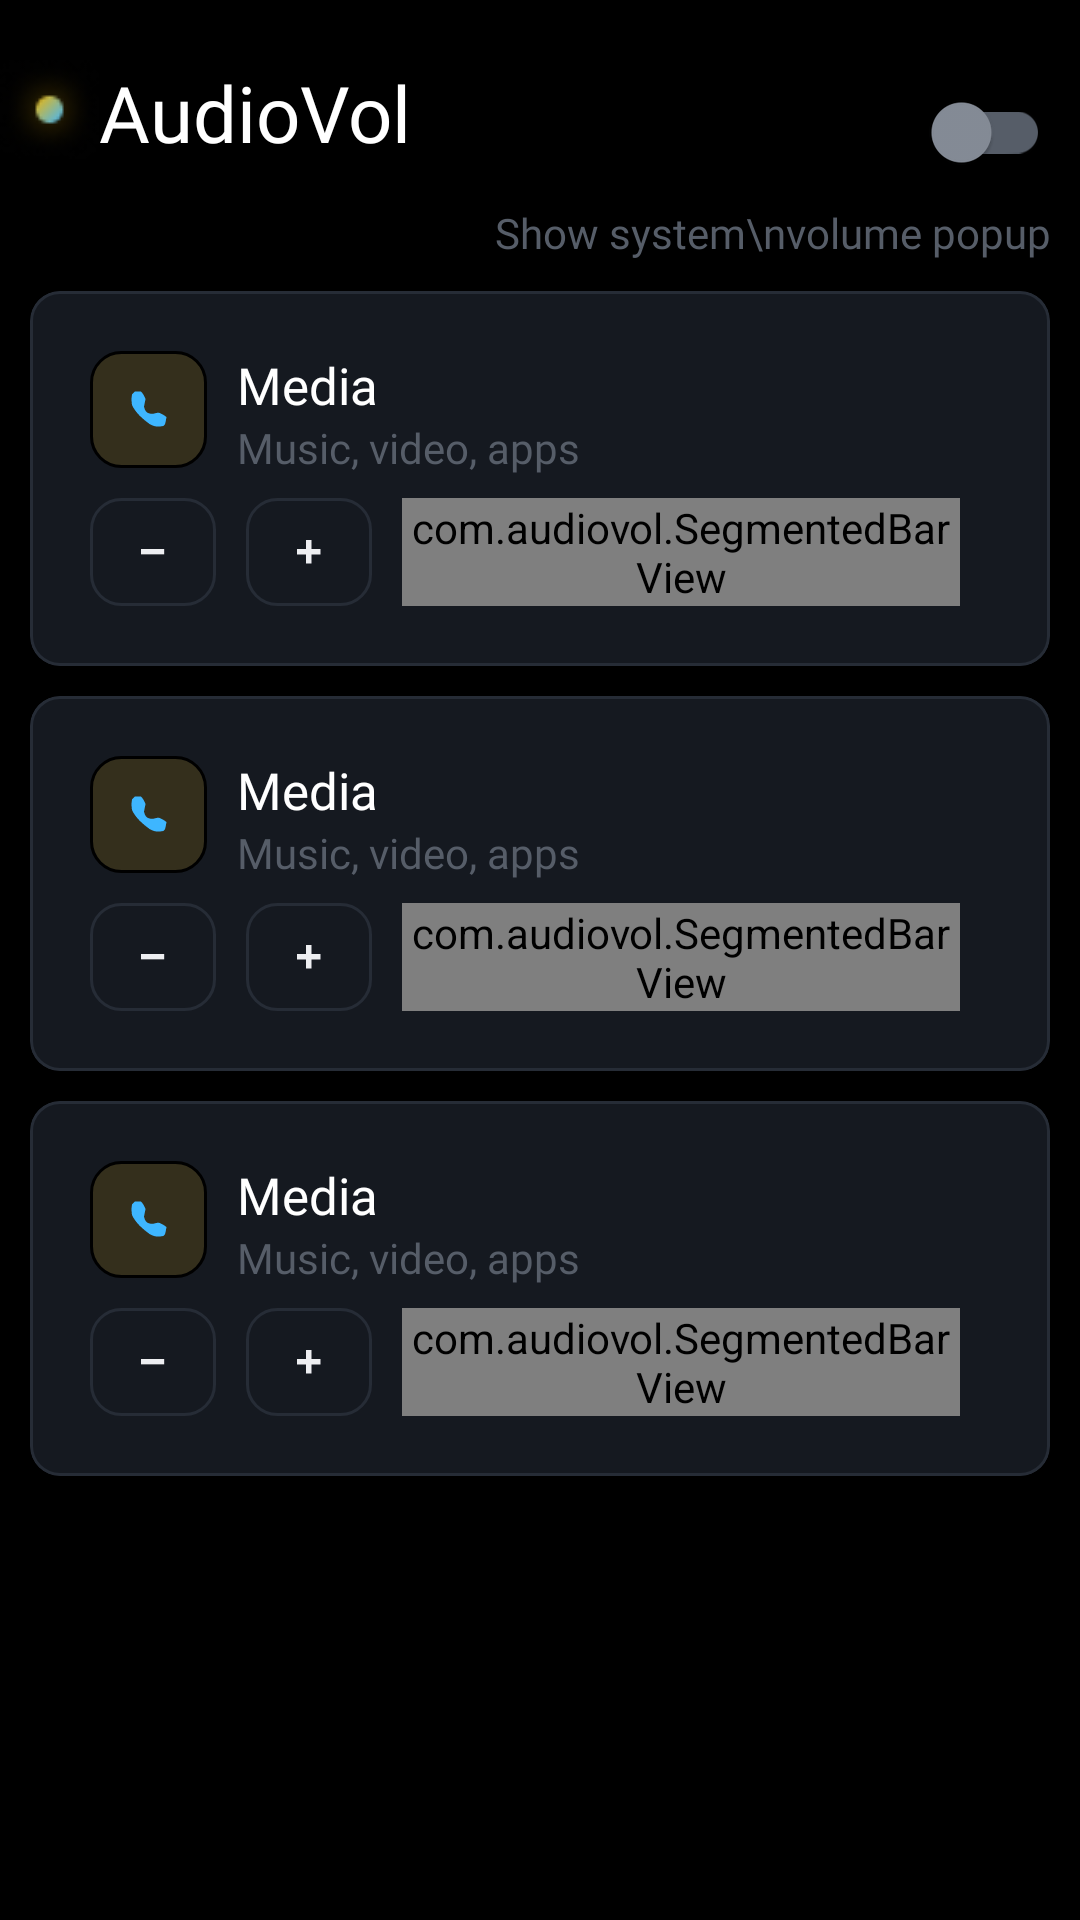

Icons on this 1080*1920 Android screen, each with its box as (x1,y1,x2,y2):
minus: (141,549,165,555), (141,954,165,960), (141,1359,165,1365)
phone: (90,351,207,468), (90,756,207,873), (90,1161,207,1278)
plus: (297,540,321,564), (297,945,321,969), (297,1350,321,1374)
